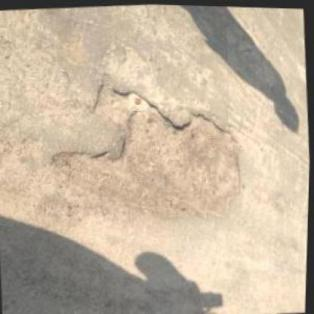Hueco: (43, 62, 251, 233)
